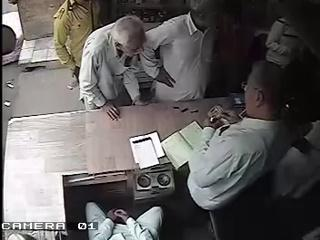Normal: (186, 60, 291, 238), (138, 0, 224, 103), (78, 15, 148, 121), (53, 0, 109, 89), (85, 202, 163, 239)
